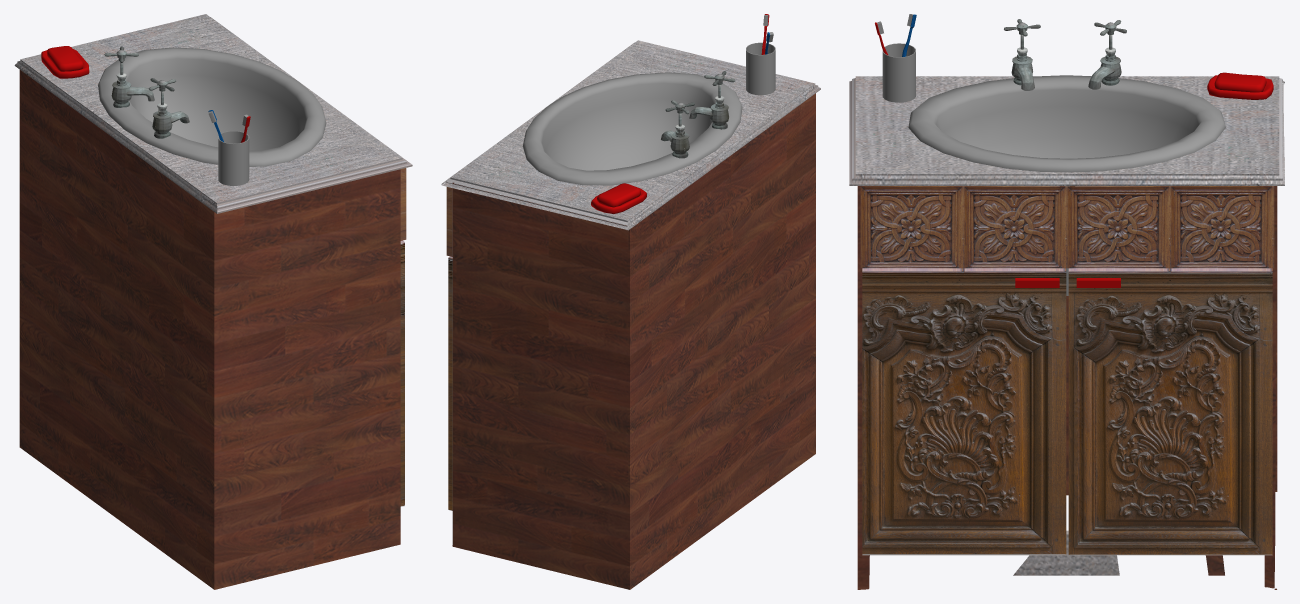
File: ArmarioPia.FBX
3 renders of one model, left to right at view 1: azimuth 30°, elevation 25°; view 2: azimuth 150°, elevation 25°; view 3: azimuth 270°, elevation 25°, orthographic. The views are drawn at different scales.
Parts seen in each view (by area): view 1: basePronto, sinkPronto, faucetsPronto, doorsPronto, standPronto, soapPronto, dishPronto; view 2: basePronto, sinkPronto, faucetsPronto, doorsPronto, standPronto, soapPronto; view 3: doorsPronto, basePronto, sinkPronto, faucetsPronto, standPronto, handlesPronto, soapPronto, dishPronto.
Part boxes in pixels (x1,y1,x2,y2): basePronto: (14,14,412,589); sinkPronto: (98,47,326,166); faucetsPronto: (104,46,189,138); doorsPronto: (400,168,406,506); standPronto: (218,131,249,185); soapPronto: (47,46,83,71); dishPronto: (41,49,89,78); basePronto: (441,40,820,589); sinkPronto: (522,72,742,185); faucetsPronto: (661,71,735,158); doorsPronto: (446,187,452,510); standPronto: (746,42,775,95); soapPronto: (597,183,640,207); doorsPronto: (860,186,1274,555); basePronto: (849,76,1284,589); sinkPronto: (908,75,1225,295); faucetsPronto: (1004,19,1126,90); standPronto: (882,43,915,102); handlesPronto: (1015,278,1120,287); soapPronto: (1214,72,1266,92); dishPronto: (1207,75,1273,99).
Bounding box in the file's own units: 23 × 50.48 × 40.6.
